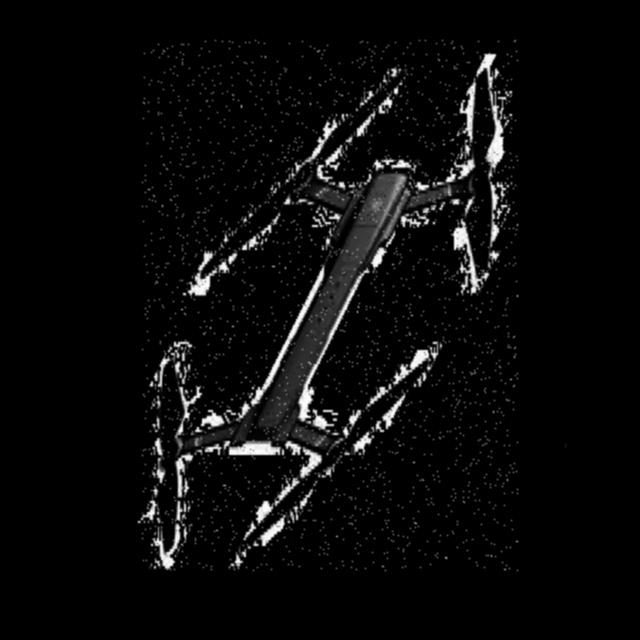drone: (143, 41, 519, 572)
